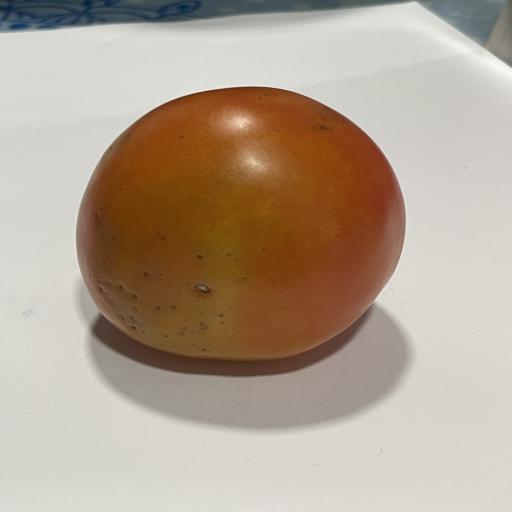unripe: (77, 86, 405, 360)
